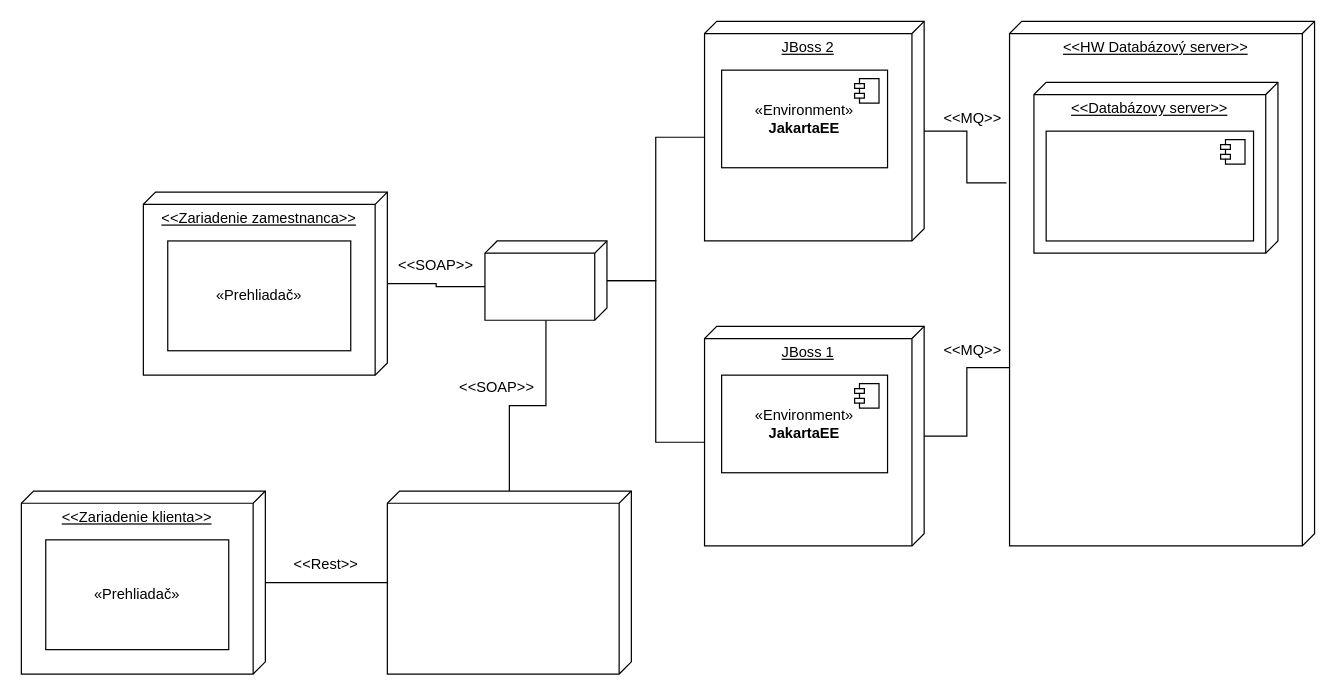
This 1336x695 diagram has some shape labels left out. The shapes that lost their labels are listed below. From the top down, each one's centre as x and y in pixels, then its label:
the point at 1149,185: «Databáza» Hlavný bankový systém
the point at 545,280: Load balancer
the point at 508,582: <<Aplikačný server>>
